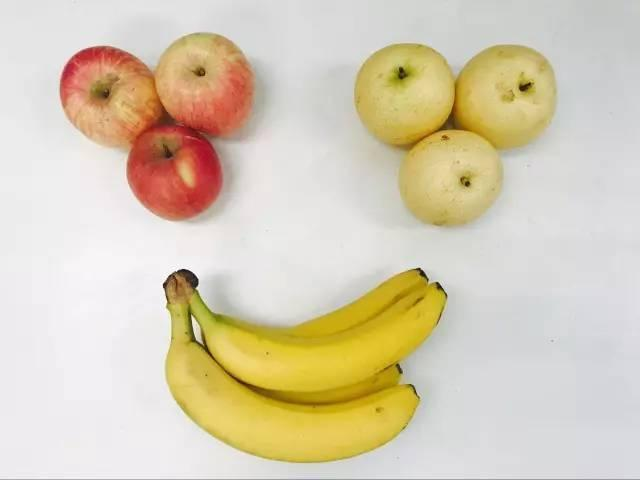apple: (57, 43, 163, 151), (151, 33, 255, 140), (125, 123, 222, 223)
